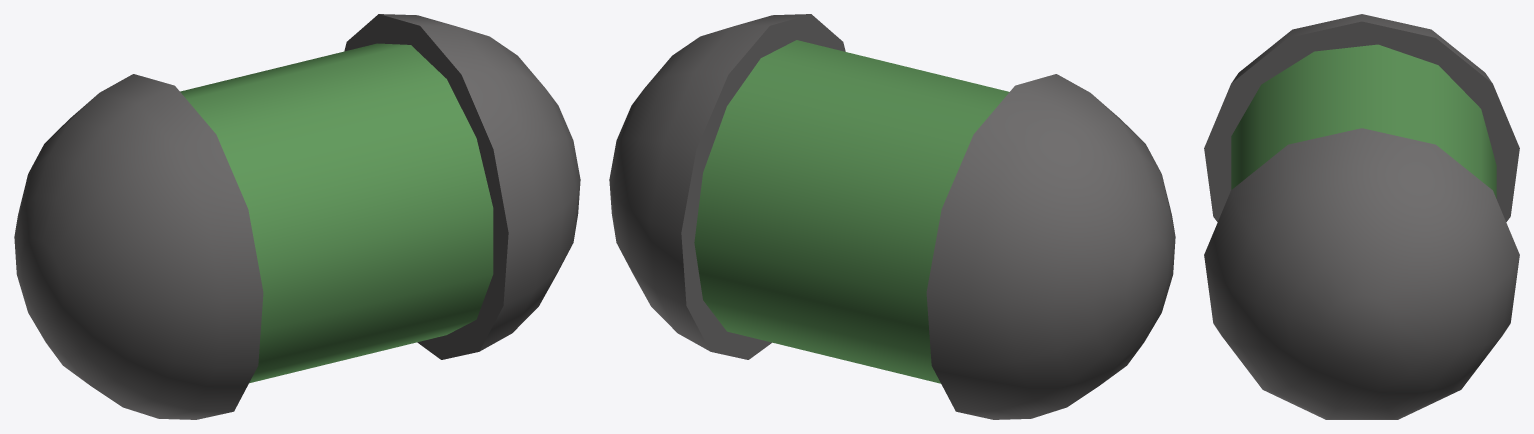
Rendered from PowerToken.fbx.
The picture shows the model from 3 angles, left to right: view 1: azimuth 30°, elevation 25°; view 2: azimuth 150°, elevation 25°; view 3: azimuth 270°, elevation 25°; orthographic projection. The views are drawn at different scales.
Visible parts, largest first — view 1: pSphere1, pCylinder1; view 2: pSphere1, pCylinder1; view 3: pSphere1, pCylinder1.
Boxes of the visible parts, bbox=[...] form: pSphere1: bbox=[14, 14, 580, 419]; pCylinder1: bbox=[180, 43, 493, 383]; pSphere1: bbox=[609, 14, 1175, 419]; pCylinder1: bbox=[694, 40, 1009, 383]; pSphere1: bbox=[1204, 14, 1519, 419]; pCylinder1: bbox=[1231, 44, 1496, 198].
Bounding box in the file's own units: 8.42 × 4.94 × 4.98.
